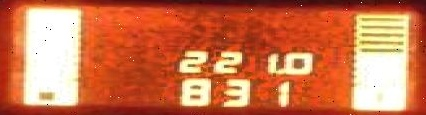-: (273, 68, 283, 73)
0: (281, 52, 312, 73)
1: (273, 79, 288, 106), (263, 52, 276, 73)
2: (174, 49, 205, 72), (211, 51, 242, 72)
3: (219, 77, 250, 106)
8: (177, 77, 208, 106)
